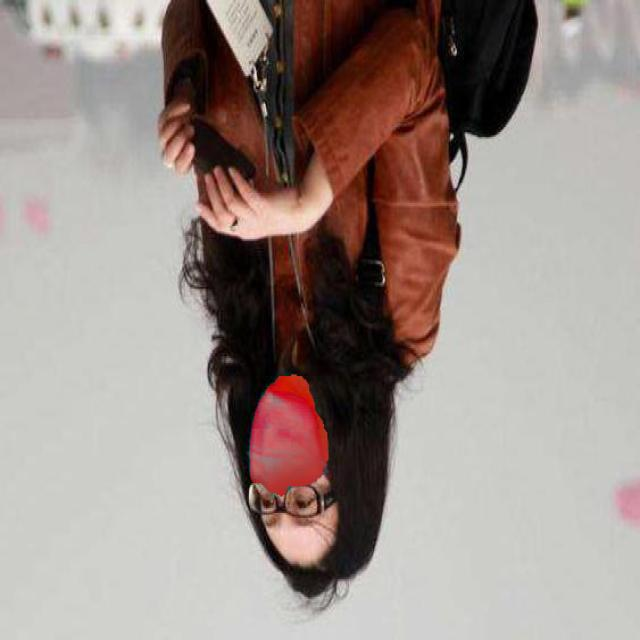mask: (235, 361, 353, 504)
